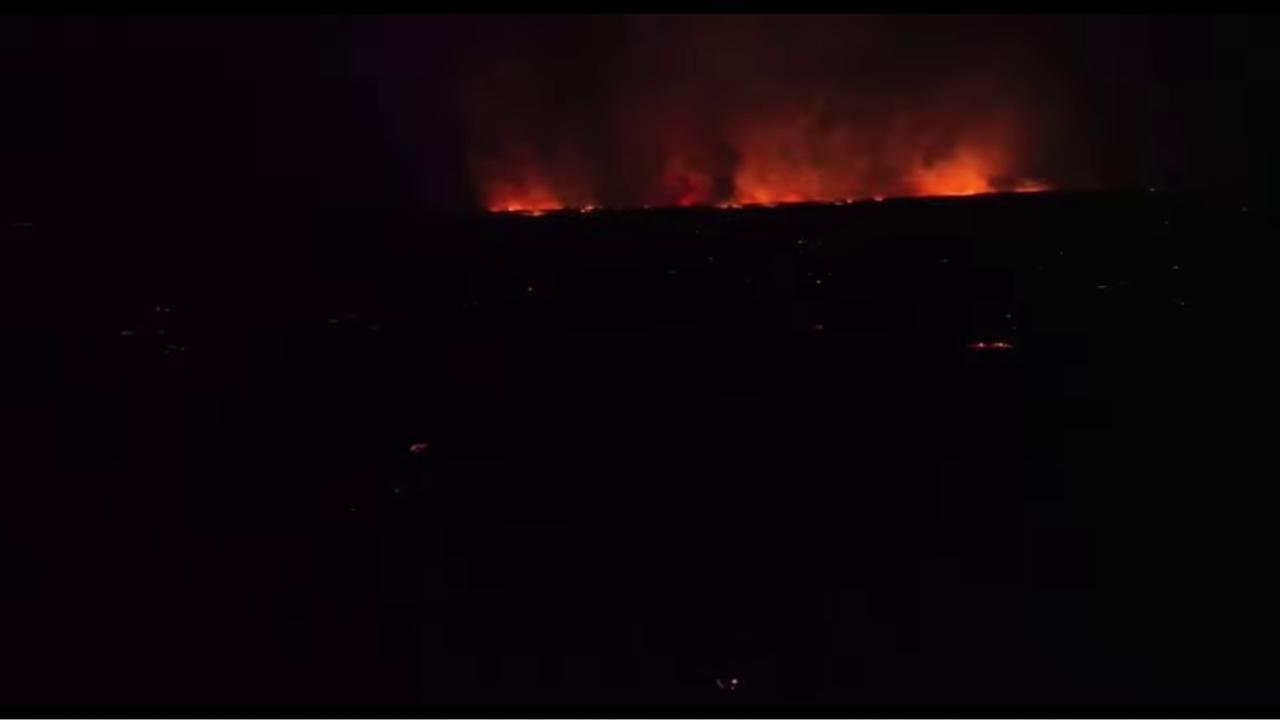fire: (923, 158, 995, 198), (489, 195, 567, 217), (753, 188, 780, 209), (713, 675, 742, 694), (968, 339, 1015, 350), (1012, 183, 1055, 194), (407, 441, 431, 455), (713, 201, 744, 210), (579, 203, 596, 215), (834, 197, 856, 206), (117, 328, 136, 337), (810, 323, 825, 331), (872, 195, 886, 203), (527, 286, 534, 292), (816, 280, 822, 284)
smoke: (316, 17, 1199, 215)
